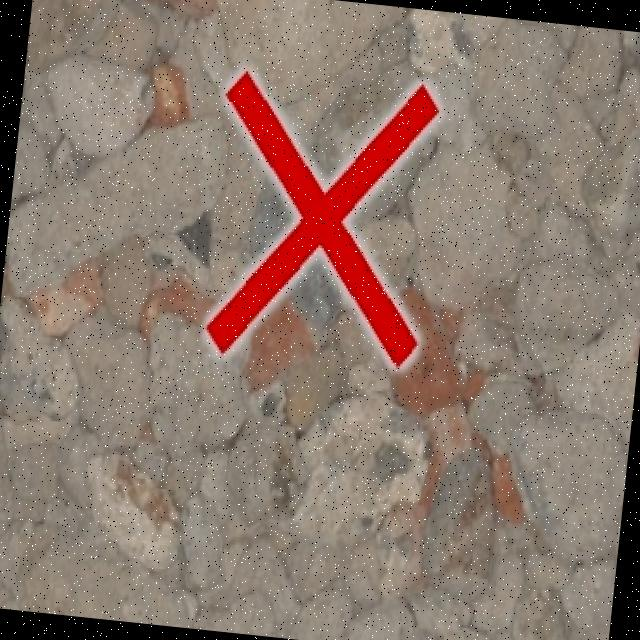x_marker: (200, 62, 442, 372)
